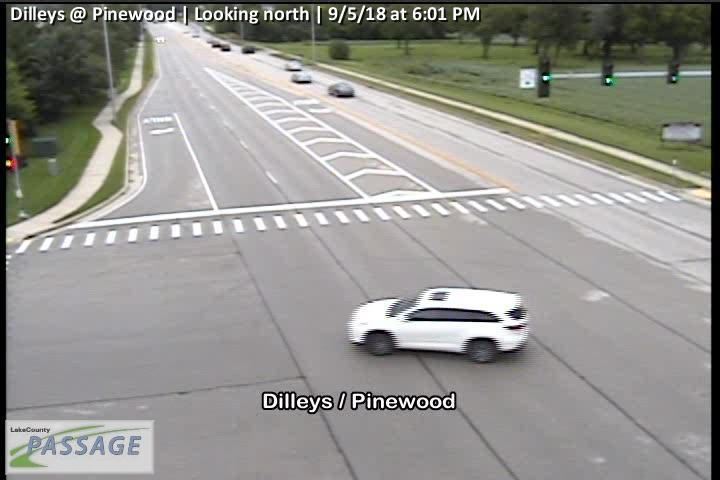SUV: (349, 286, 528, 363)
Sedan: (327, 82, 354, 97), (292, 71, 311, 83), (284, 60, 301, 70), (241, 46, 254, 52)
